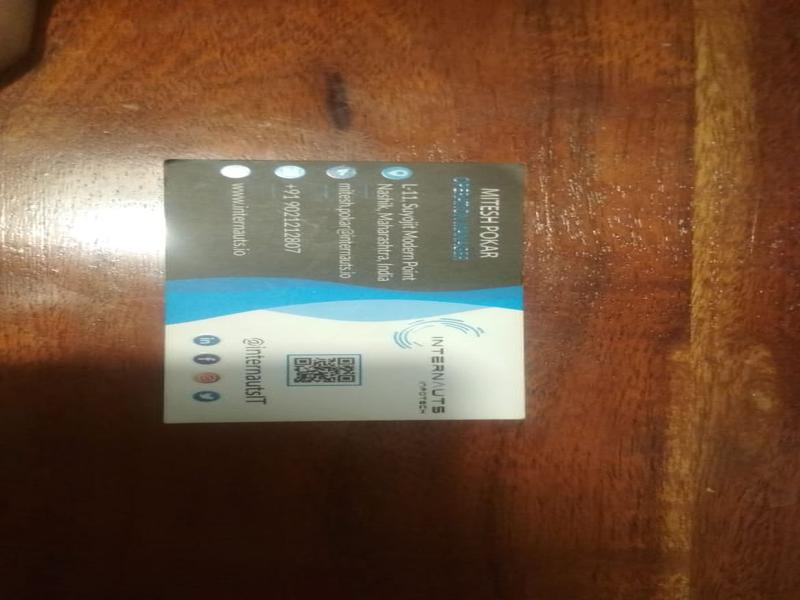card: (161, 159, 529, 426)
